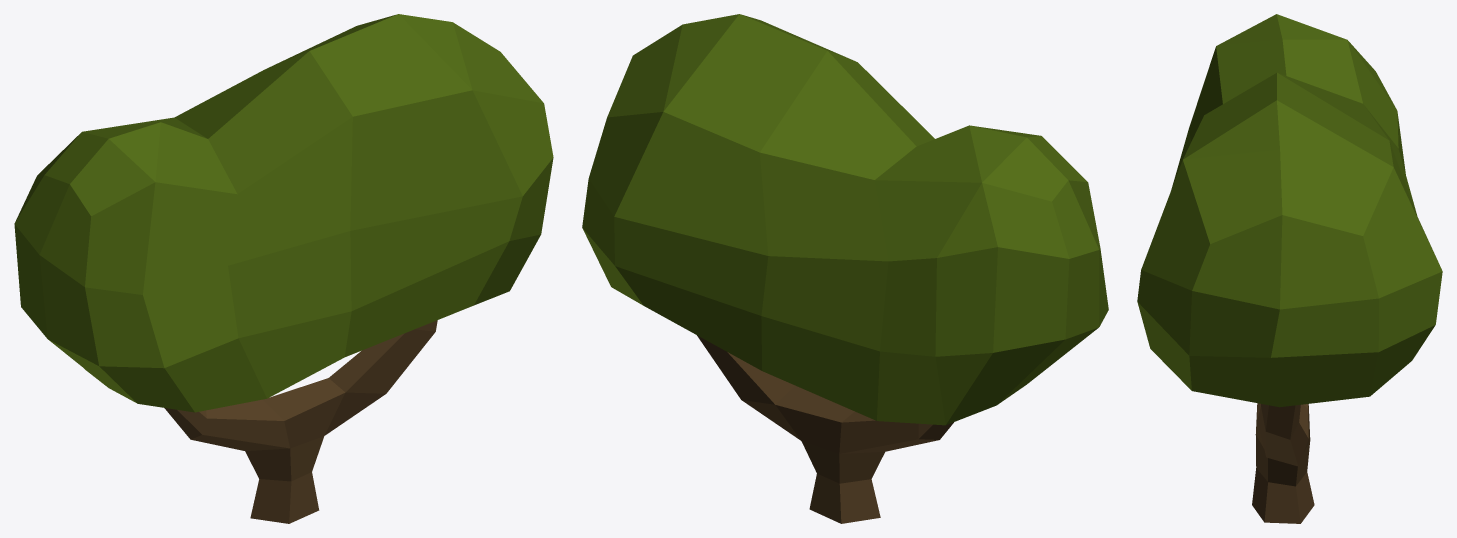
The model's file is TreesAndBushes_060.fbx.
3 views of the same model, side by side, from view 1: azimuth 30°, elevation 25°; view 2: azimuth 150°, elevation 25°; view 3: azimuth 270°, elevation 25° (orthographic).
Visible parts, largest first — view 1: TreesAndBushes_060; view 2: TreesAndBushes_060; view 3: TreesAndBushes_060.
Part boxes in pixels (left/top/right/bottom): TreesAndBushes_060: left=14, top=14, right=553, bottom=523; TreesAndBushes_060: left=582, top=14, right=1108, bottom=523; TreesAndBushes_060: left=1137, top=14, right=1442, bottom=523.
Bounding box in the file's own units: 94.23 × 85.79 × 51.24.
